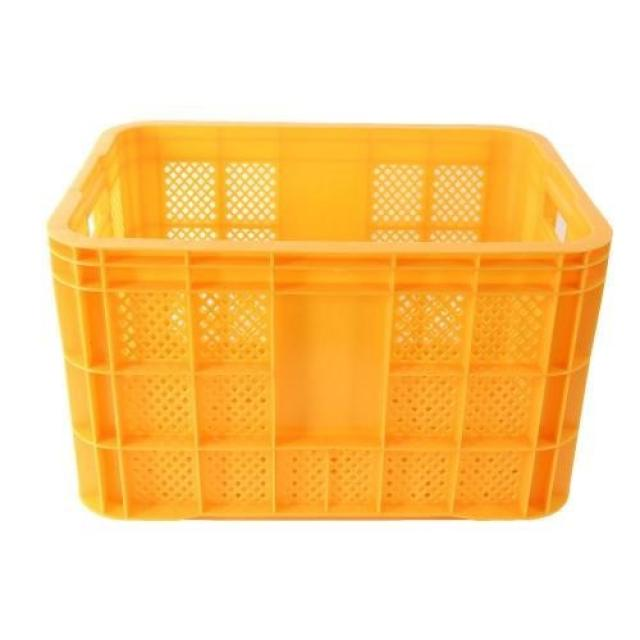basket: (48, 122, 614, 520)
